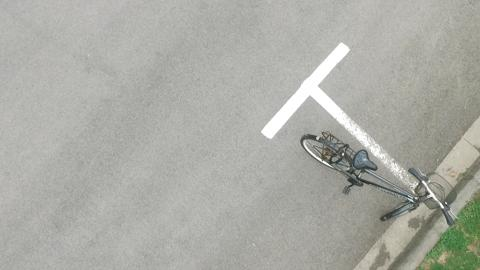bike: (291, 115, 454, 222)
